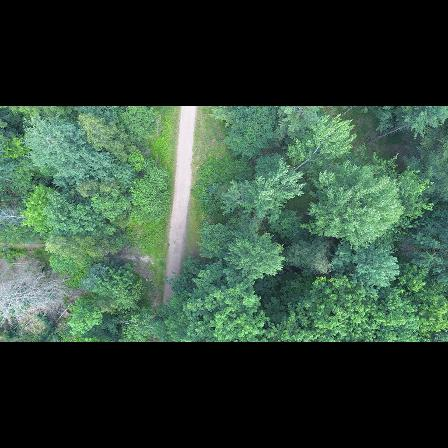Dead: (0, 276, 70, 318), (0, 254, 54, 286), (0, 207, 29, 227)
